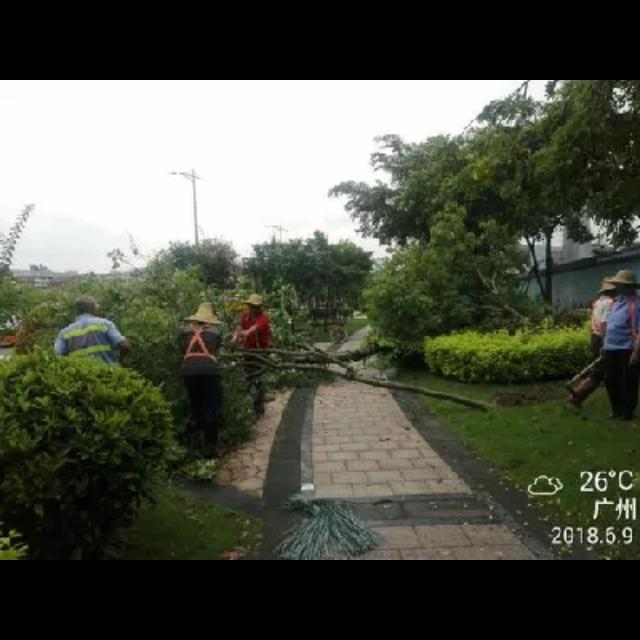fallen_tree: (89, 305, 511, 415), (391, 210, 559, 350)
